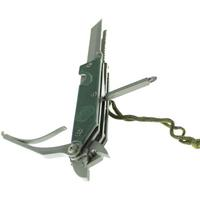knife: (67, 15, 118, 182)
